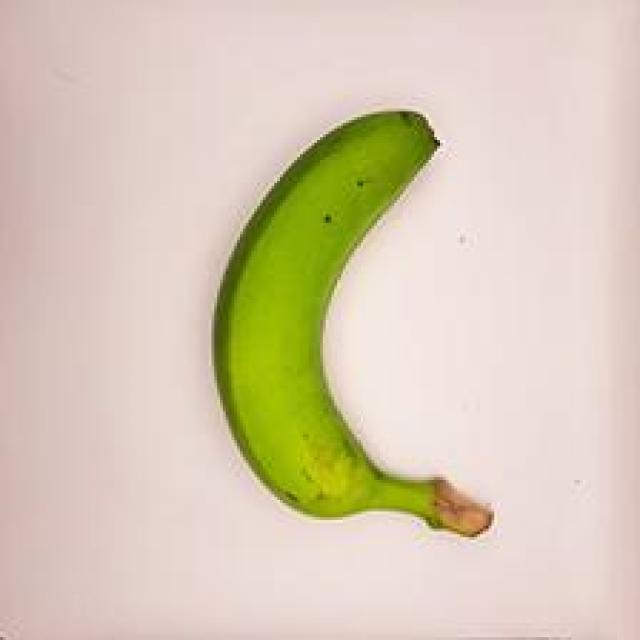Unripe: (163, 87, 514, 566)
